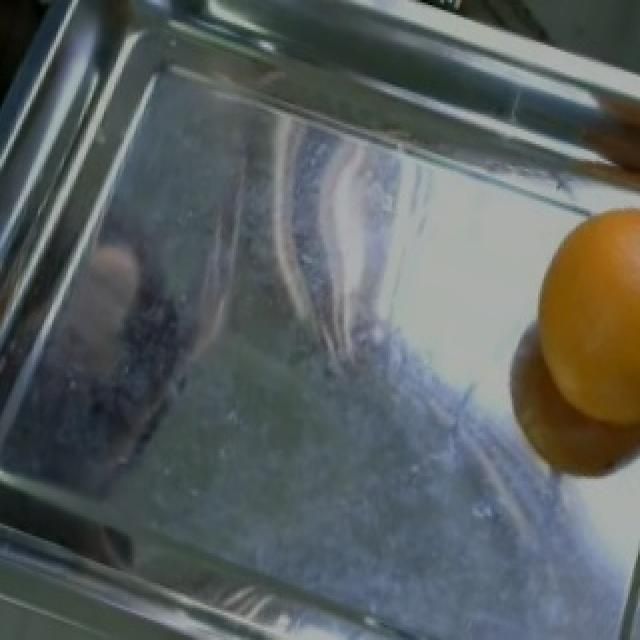Fruit: (514, 198, 640, 484)
